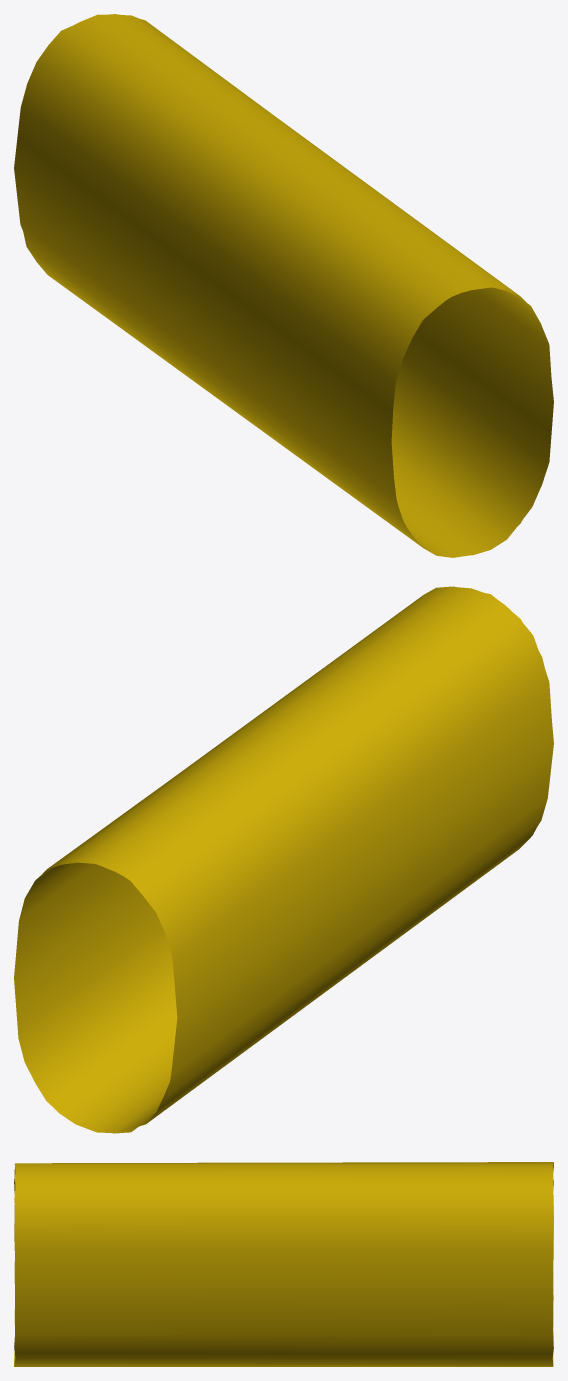
File: original_15.obj
3 views of the same model, one above another, from view 1: azimuth 30°, elevation 25°; view 2: azimuth 150°, elevation 25°; view 3: azimuth 270°, elevation 25° (orthographic). The views are drawn at different scales.
Visible parts, largest first — view 1: #ID93; view 2: #ID93; view 3: #ID93.
Boxes of the visible parts, x1,y1,x2,y2 form: #ID93: [14, 14, 553, 557]; #ID93: [14, 586, 553, 1133]; #ID93: [14, 1162, 553, 1366].
Bounding box in the file's own units: 0.0197 × 0.0304 × 0.0774.
